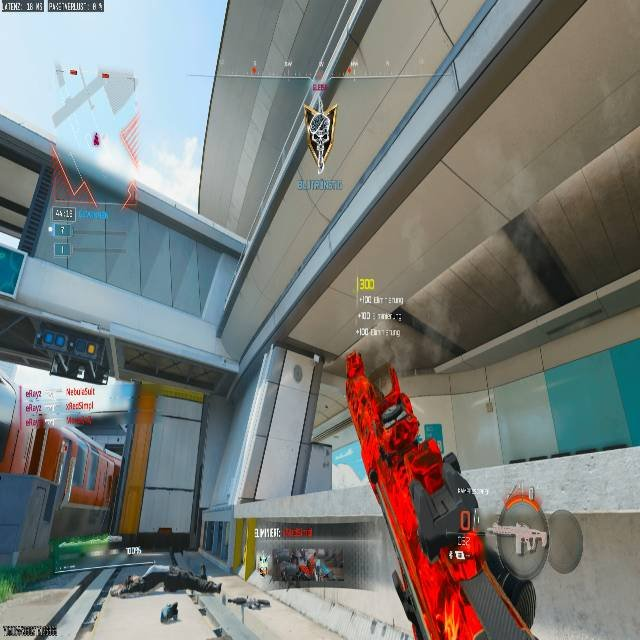player: (305, 95, 336, 171), (123, 179, 138, 209)
